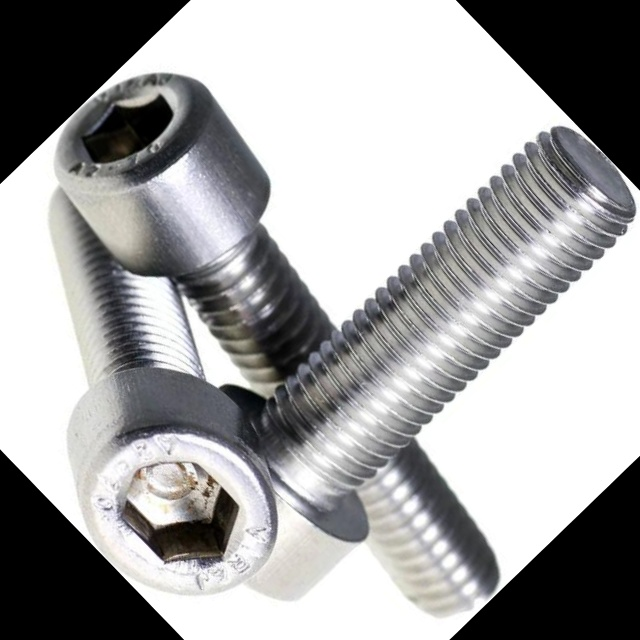allen: (14, 324, 332, 640), (32, 29, 237, 233)
